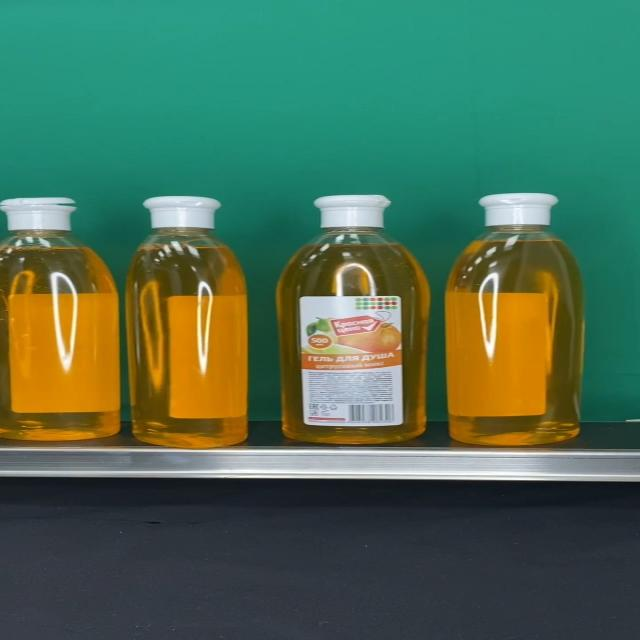Bottle: (276, 195, 431, 444), (445, 193, 584, 446), (124, 196, 247, 449), (0, 196, 119, 440)
Cap: (477, 193, 560, 227), (0, 196, 76, 231), (312, 196, 392, 228), (143, 196, 221, 228)
